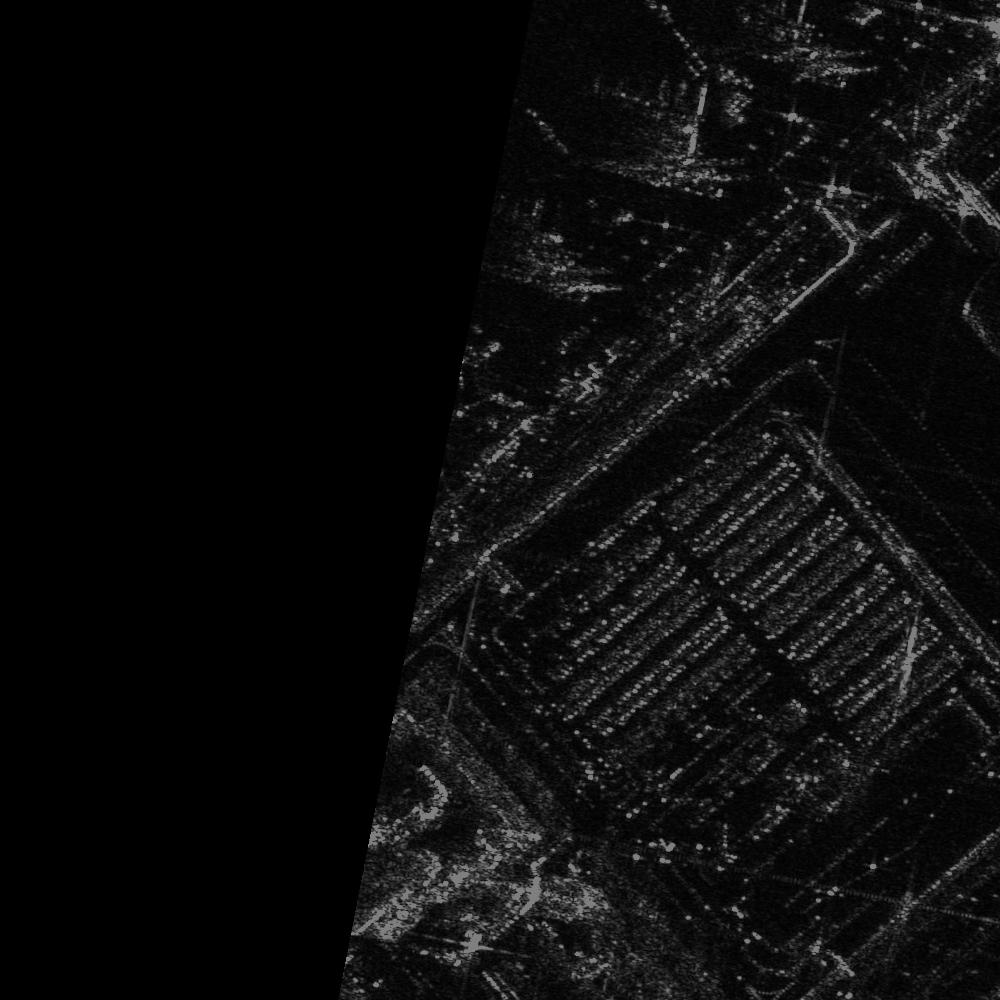Boeing737: (483, 189, 570, 269)
Boeing787: (593, 71, 709, 168)
